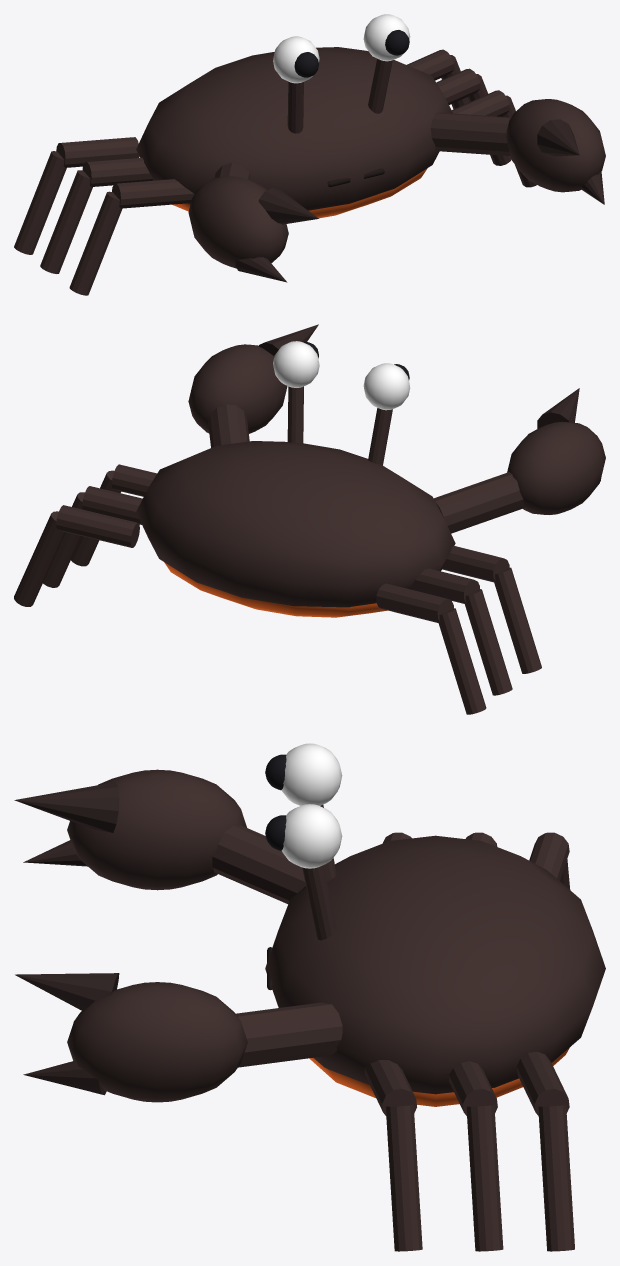
The picture shows the model from 3 angles, top to bottom: view 1: azimuth 30°, elevation 25°; view 2: azimuth 150°, elevation 25°; view 3: azimuth 270°, elevation 25°; orthographic projection. The views are drawn at different scales.
Visible parts, largest first — view 1: Magma Crab; view 2: Magma Crab; view 3: Magma Crab.
Boxes of the visible parts, box(x1,y1,x2,y2) form: Magma Crab: box(14, 14, 605, 295); Magma Crab: box(14, 324, 605, 714); Magma Crab: box(14, 743, 605, 1251).
Size of the model in its own units: 4.15 by 2.01 by 3.3.
Materials: 1 (1 with a texture image).
